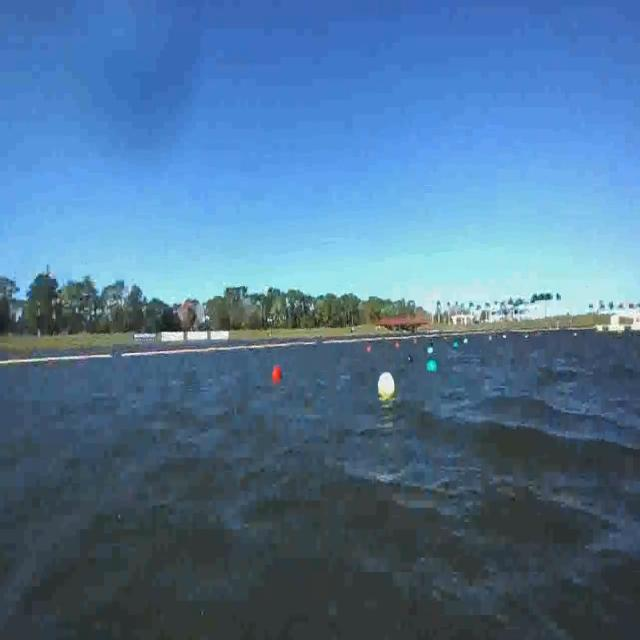green-buoy: (426, 356, 437, 374)
red-buoy: (273, 365, 282, 382)
yellow-buoy: (378, 374, 396, 399)
